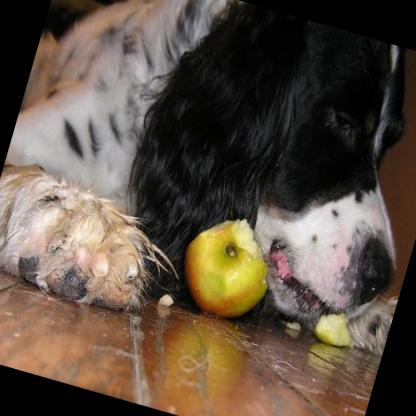English_setter: (0, 0, 416, 389)
